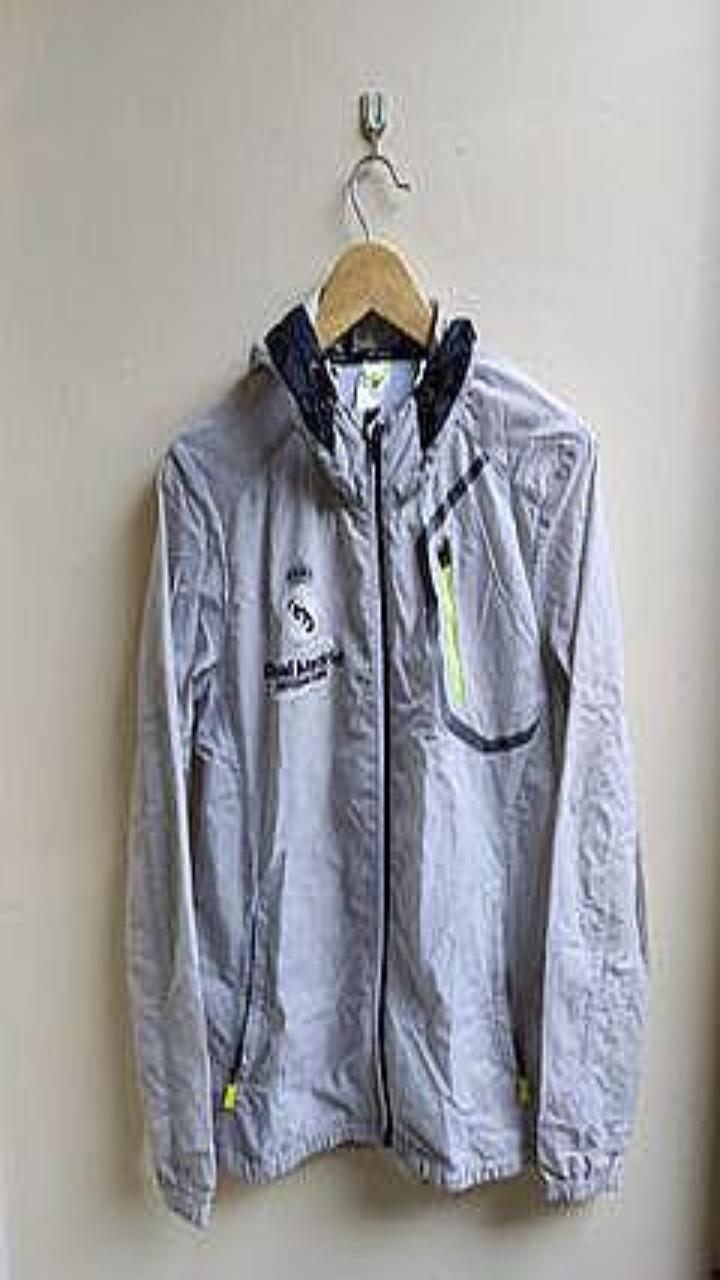Sports_Jacket: (126, 288, 649, 1226)
